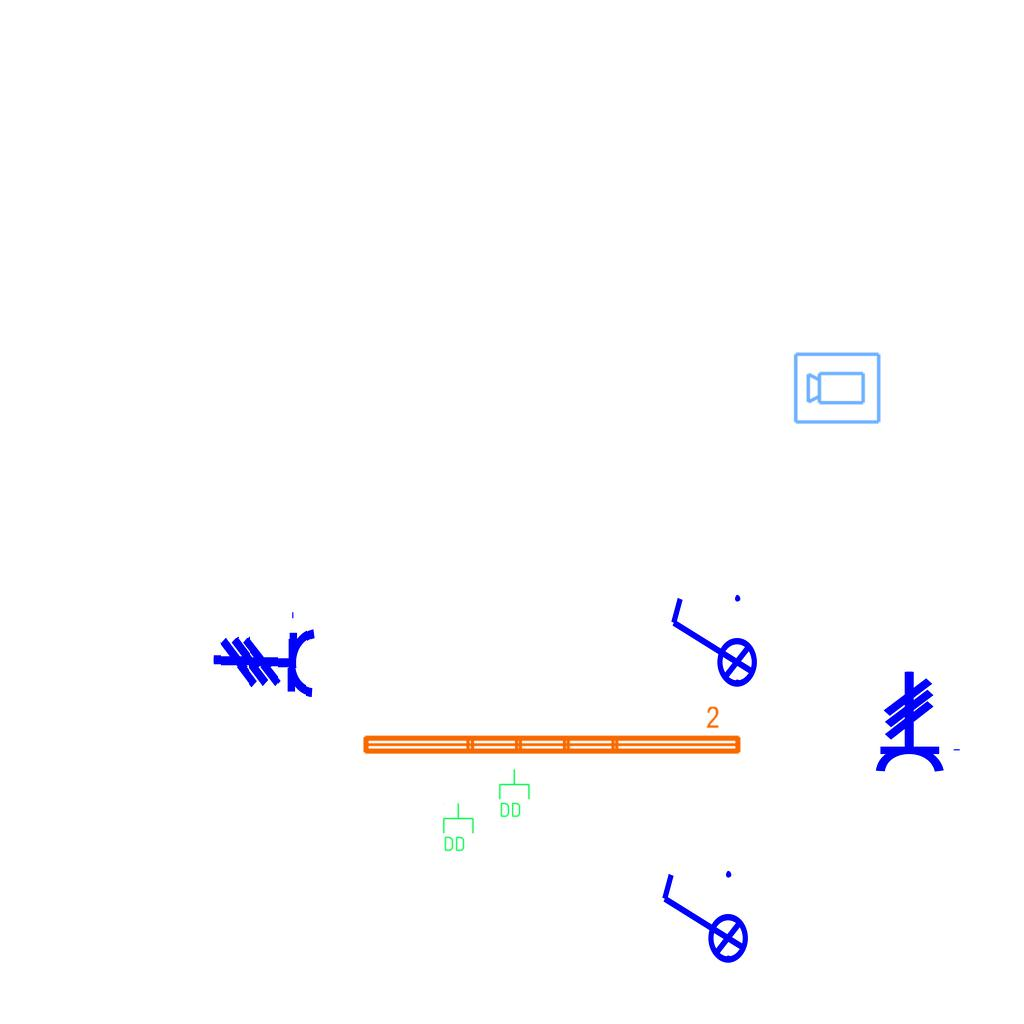Ambulanz_Pendelleuchte_LED: (358, 704, 745, 760)
Ausschalter_beleuchtet: (663, 589, 759, 701), (654, 865, 750, 977)
CEE_Drehstrom_Steckdose_16_32_A: (210, 606, 318, 700), (873, 670, 963, 774)
Datenanschluss_zweifach: (497, 768, 531, 819), (441, 802, 475, 853)
KFO_Kamera_mit_Festobjektiv: (792, 349, 883, 426)
